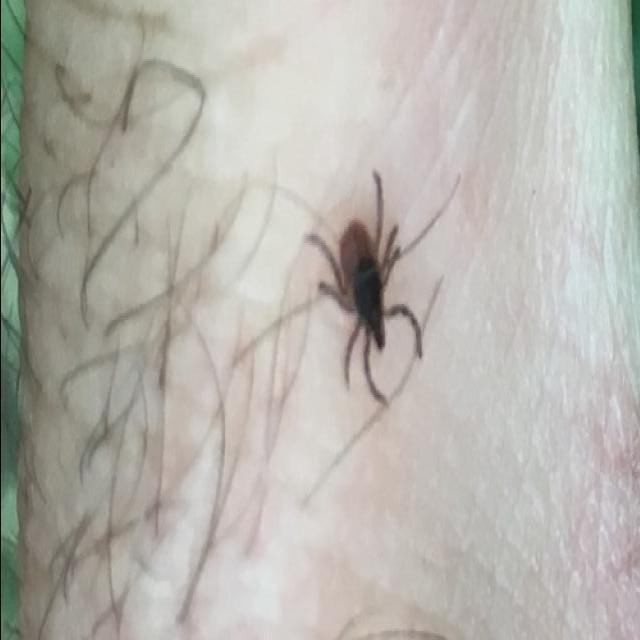Ixodes Ricinus-F: (302, 168, 421, 406)
